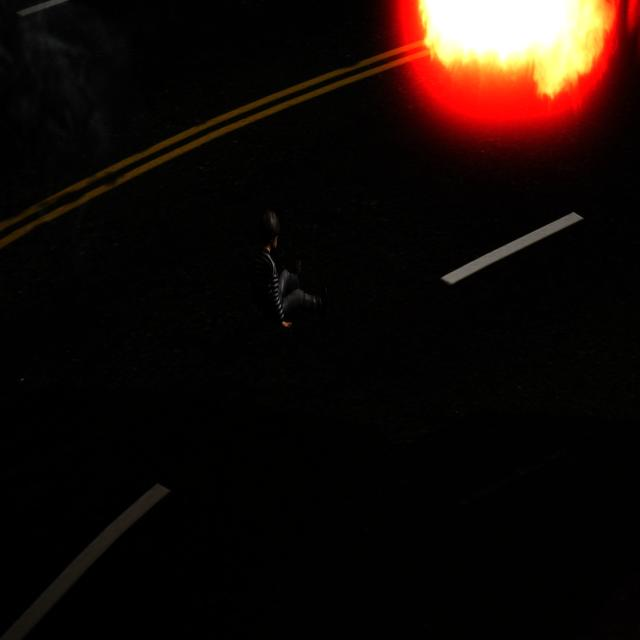Human: (254, 204, 336, 337)
